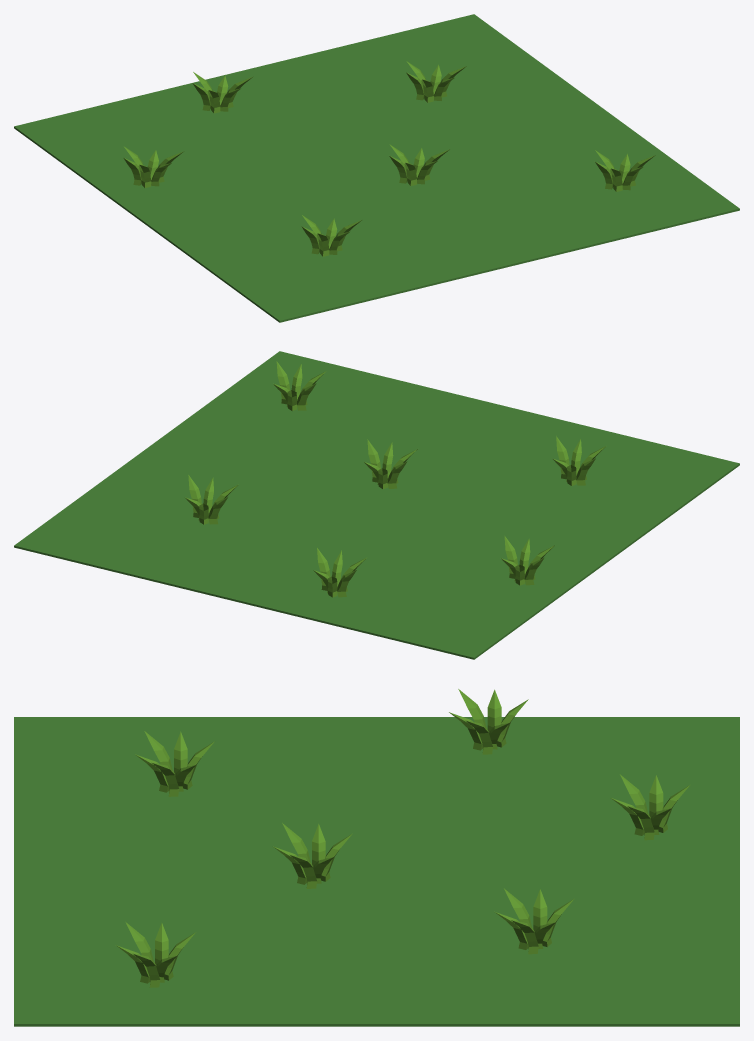
File: Hierba.fbx
3 views of the same model, one above another, from view 1: azimuth 30°, elevation 25°; view 2: azimuth 150°, elevation 25°; view 3: azimuth 270°, elevation 25° (orthographic). The views are drawn at different scales.
Visible parts, largest first — view 1: Cube, Cone.005, Cone.003, Cone.007, Cone.002, Cone.004, Cone.001; view 2: Cube, Cone.005, Cone.001, Cone.002, Cone.004, Cone.003, Cone.007; view 3: Cube, Cone.003, Cone.002, Cone.004, Cone.007, Cone.001, Cone.005.
Boxes of the visible parts, bbox=[...] form: Cube: bbox=[14, 14, 739, 322]; Cone.005: bbox=[389, 144, 449, 185]; Cone.003: bbox=[123, 146, 184, 187]; Cone.007: bbox=[301, 215, 361, 256]; Cone.002: bbox=[406, 61, 466, 102]; Cone.004: bbox=[192, 72, 253, 113]; Cone.001: bbox=[595, 150, 655, 191]; Cube: bbox=[14, 351, 739, 659]; Cone.005: bbox=[364, 439, 417, 489]; Cone.001: bbox=[273, 361, 326, 410]; Cone.002: bbox=[185, 475, 238, 524]; Cone.004: bbox=[313, 548, 366, 597]; Cone.003: bbox=[501, 536, 554, 585]; Cone.007: bbox=[552, 436, 605, 485]; Cube: bbox=[14, 717, 739, 1026]; Cone.003: bbox=[449, 689, 528, 754]; Cone.002: bbox=[494, 888, 573, 954]; Cone.004: bbox=[610, 774, 689, 840]; Cone.007: bbox=[135, 731, 214, 796]; Cone.001: bbox=[116, 922, 195, 987]; Cone.005: bbox=[273, 823, 352, 888].
Size of the model in its own units: 200 by 14.04 by 200.
